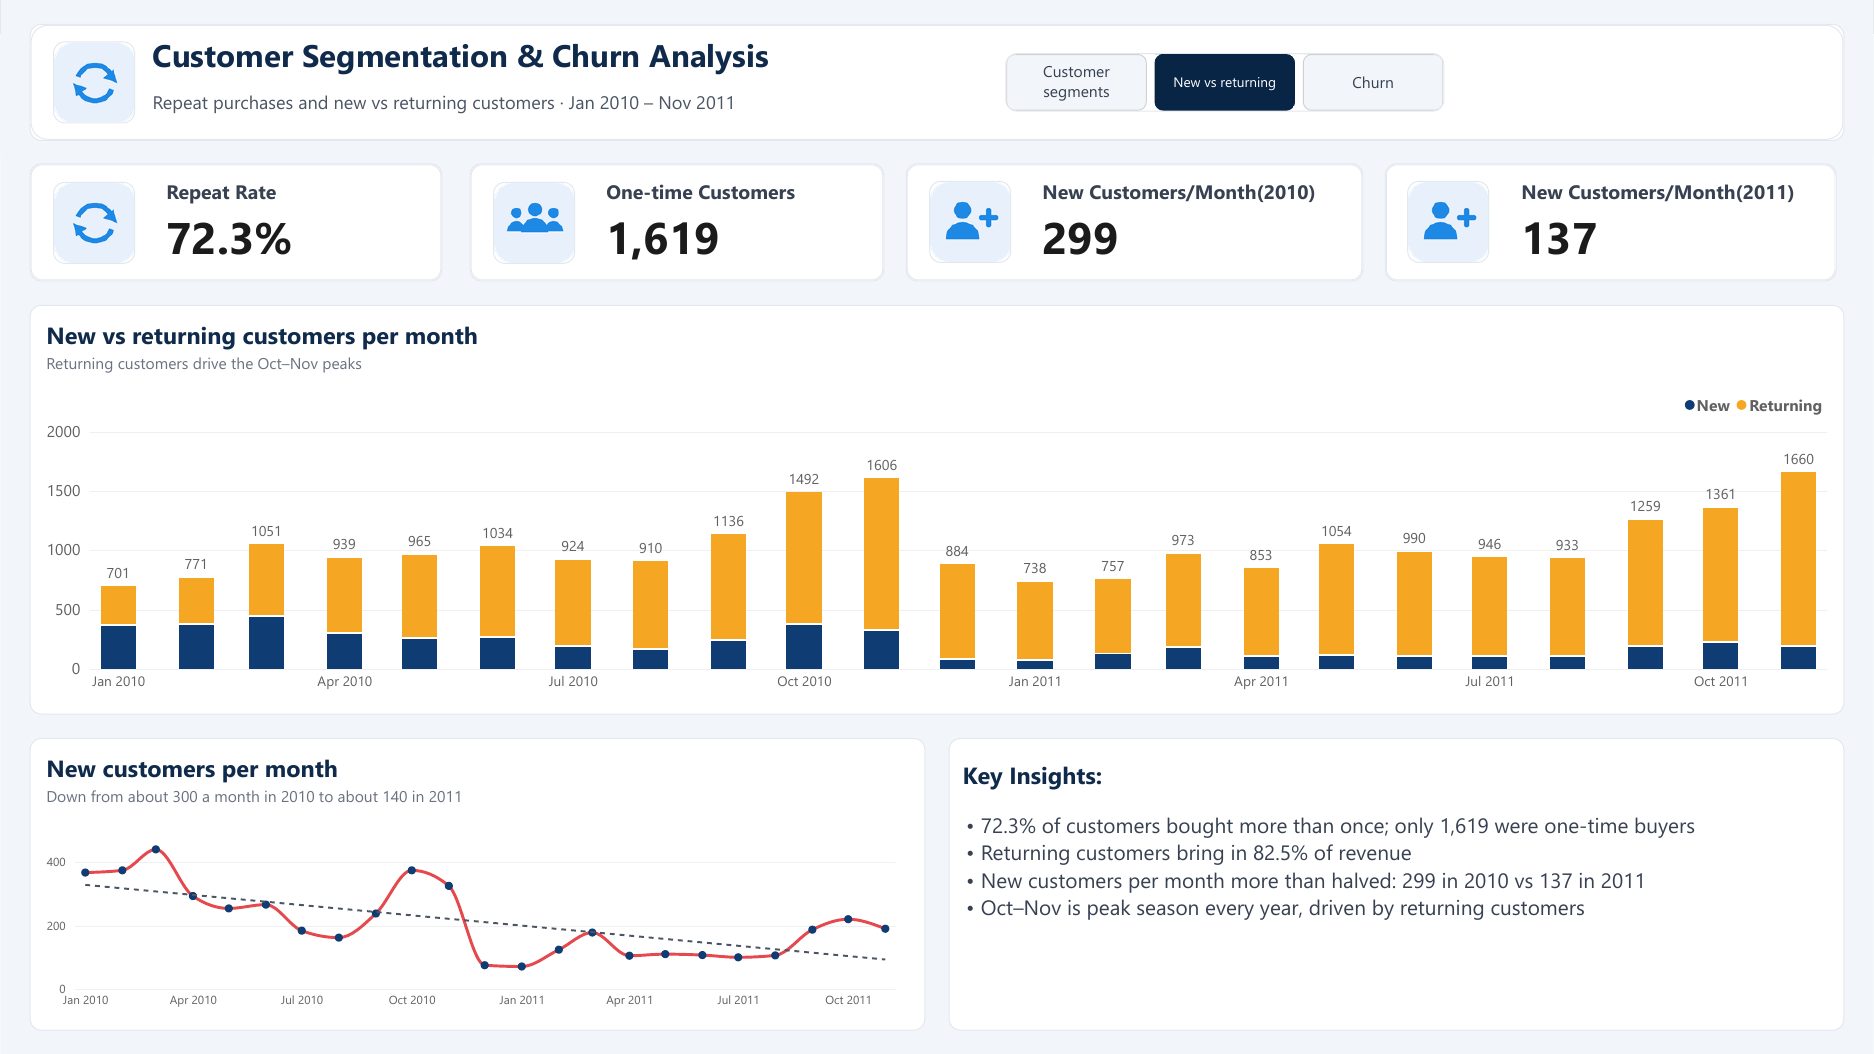

Layout of this report page (visuals, bound fields, positions):
{"tool":"powerbi","page":{"name":"New vs returning","canvas":[1920,1080],"ordinal":1},"visuals":[{"type":"columnChart","title":"New vs returning customers per month","fields":{"Category":["new_vs_returning_monthly.Month"],"Y":["Sum(new_vs_returning_monthly.New)","Sum(new_vs_returning_monthly.Returning)"]},"box":[30,312,1860,420],"z":0},{"type":"shape","box":[30,24,1860,120],"z":1000},{"type":"image","box":[54,42,84,84],"z":2000},{"type":"textbox","box":[156,34,860,56],"z":3000},{"type":"textbox","box":[156,92,860,40],"z":4000},{"type":"pageNavigator","box":[1030,54,450,60],"z":5000},{"type":"shape","box":[29.6,167.5,423.7,120.2],"z":6000},{"type":"shape","box":[480.8,167.5,425.6,120.2],"z":7000},{"type":"shape","box":[1418.7,167.5,463.1,120.2],"z":8000},{"type":"shape","box":[928.1,167.5,469,120.2],"z":9000},{"type":"image","box":[54,186,84,84],"z":10000},{"type":"image","box":[1442.3,185.1,84,84],"z":11000},{"type":"image","box":[951.8,185.2,84,84],"z":12000},{"type":"image","box":[505.2,185.8,84,84],"z":13000},{"type":"cardVisual","fields":{"Data":["rfm_segments.Repeat Rate %"]},"box":[153.7,179.3,268,96.6],"z":14000},{"type":"cardVisual","fields":{"Data":["new_vs_returning_monthly.Avg New per Month 2011"]},"box":[1542.8,179.3,323.2,96.6],"z":15000},{"type":"cardVisual","fields":{"Data":["rfm_segments.one time Customers display"]},"box":[605,179.3,264,96.6],"z":16000},{"type":"cardVisual","fields":{"Data":["new_vs_returning_monthly.Avg New per Month 2010"]},"box":[1052.2,179.3,315.3,96.6],"z":17000},{"type":"lineChart","title":"New customers per month","fields":{"Category":["new_vs_returning_monthly.Month"],"Y":["Sum(new_vs_returning_monthly.New)"]},"box":[30,756,918,300],"z":18000},{"type":"textbox","box":[972,756,918,300],"z":18001}]}

Visuals, with their boxes in screenshot pixels (x1, y1, x2, y2), scaled from the page's 1920x1080 canvas onto the 1874x1054 screenshot:
"New vs returning customers per month" columnChart: box(29, 304, 1845, 714)
shape: box(29, 23, 1845, 141)
image: box(53, 41, 135, 123)
textbox: box(152, 33, 992, 88)
textbox: box(152, 90, 992, 129)
pageNavigator: box(1005, 53, 1445, 111)
shape: box(29, 163, 442, 281)
shape: box(469, 163, 885, 281)
shape: box(1385, 163, 1837, 281)
shape: box(906, 163, 1364, 281)
image: box(53, 182, 135, 264)
image: box(1408, 181, 1490, 263)
image: box(929, 181, 1011, 263)
image: box(493, 181, 575, 263)
cardVisual - rfm_segments.Repeat Rate %: box(150, 175, 412, 269)
cardVisual - new_vs_returning_monthly.Avg New per Month 2011: box(1506, 175, 1821, 269)
cardVisual - rfm_segments.one time Customers display: box(591, 175, 848, 269)
cardVisual - new_vs_returning_monthly.Avg New per Month 2010: box(1027, 175, 1335, 269)
"New customers per month" lineChart: box(29, 738, 925, 1031)
textbox: box(949, 738, 1845, 1031)
